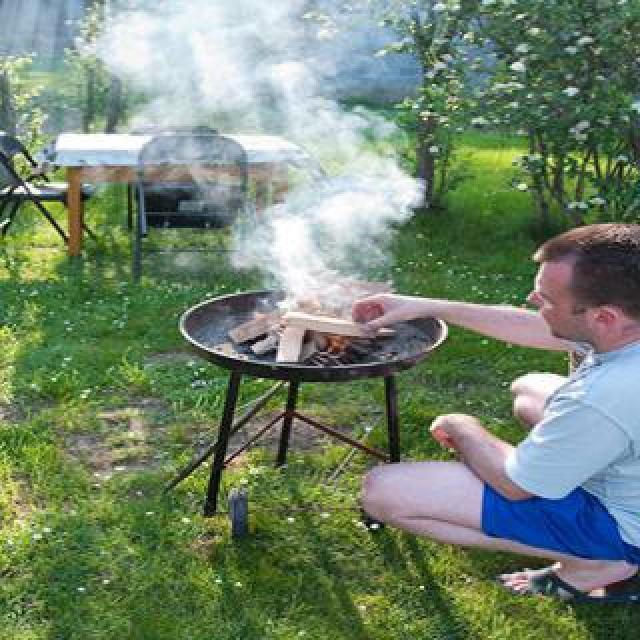Smoke: (189, 88, 424, 316)
